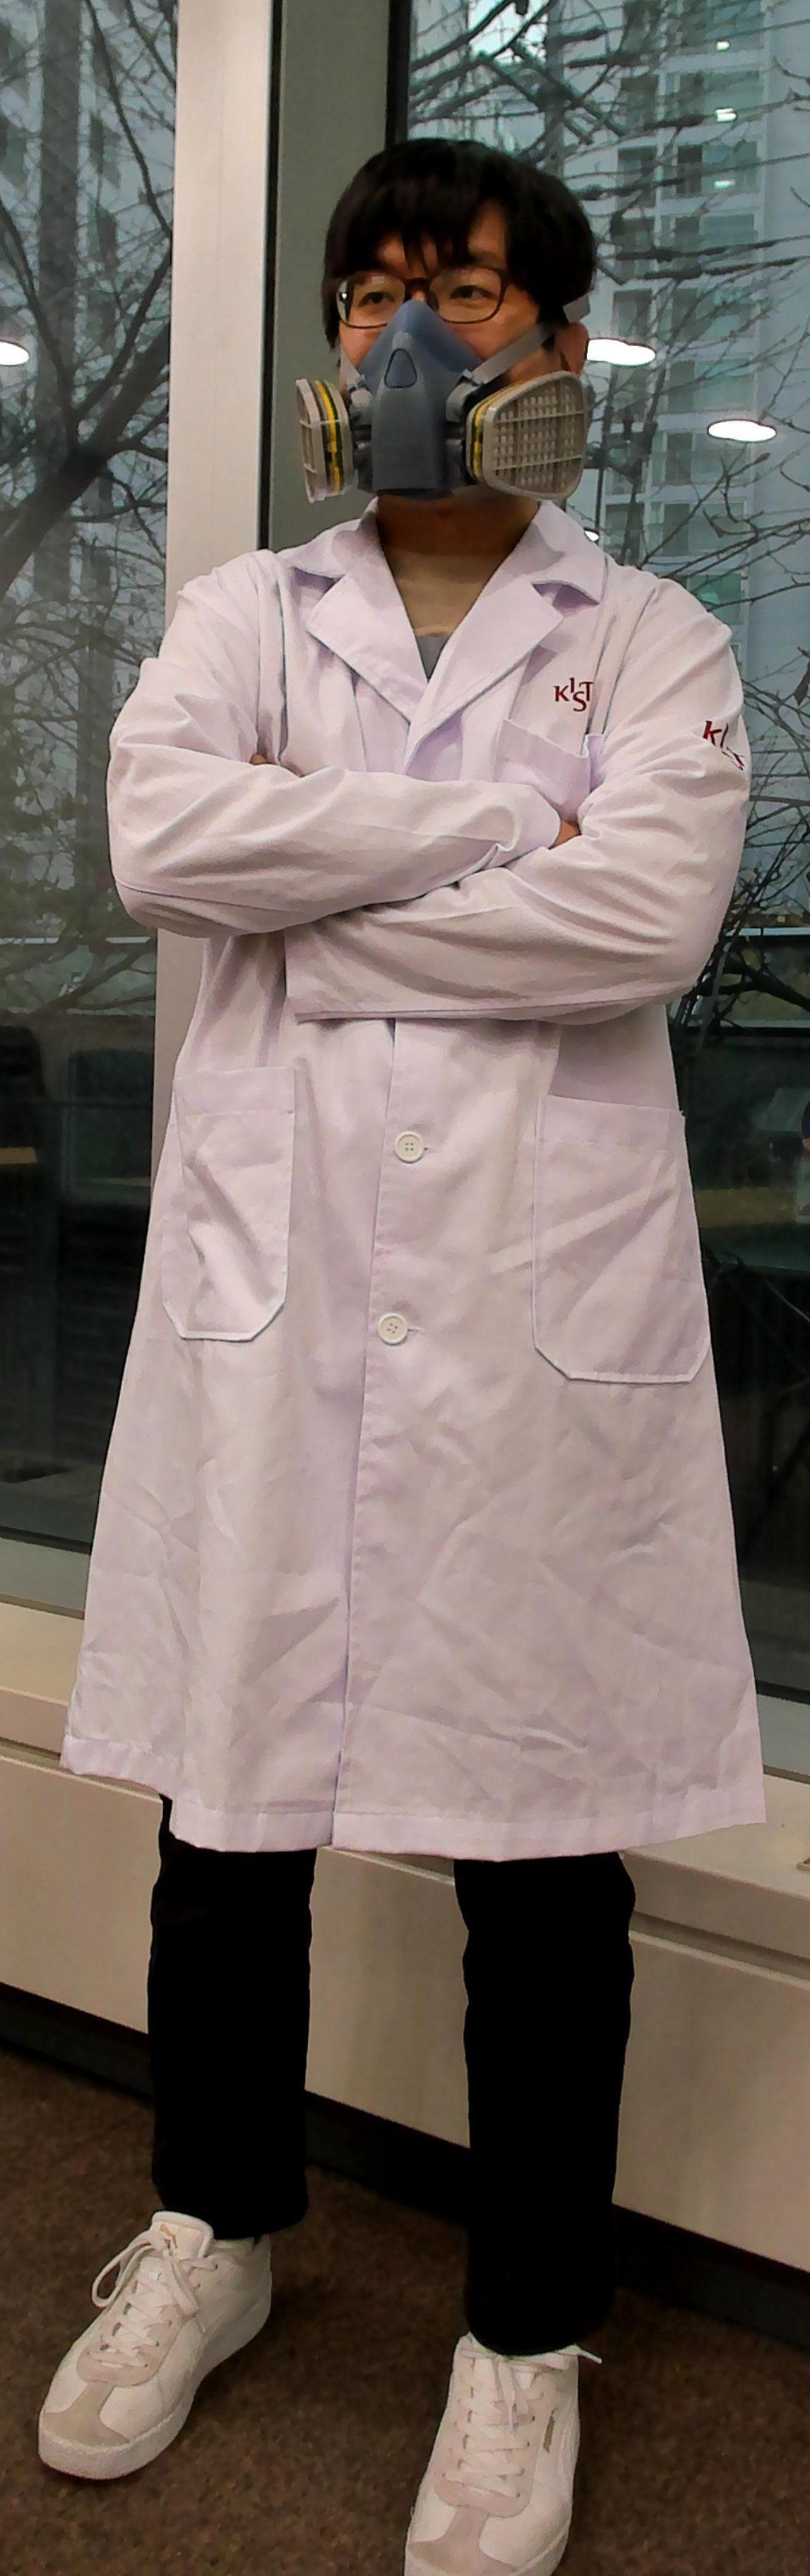lab_coat: (107, 588, 756, 1830)
